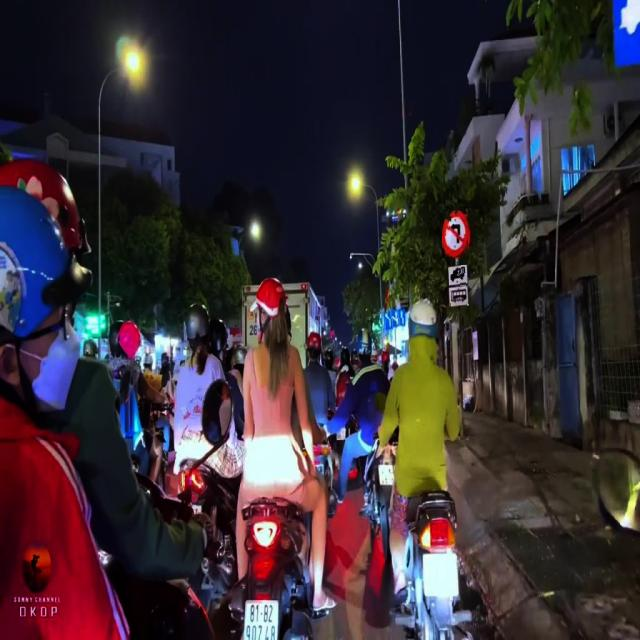cam_re_trai: (442, 210, 470, 258)
huong_di_tren_moi_lan_duong_theo_vach_ke_duong: (384, 310, 404, 330)
khac: (449, 286, 469, 307), (449, 265, 467, 287)
